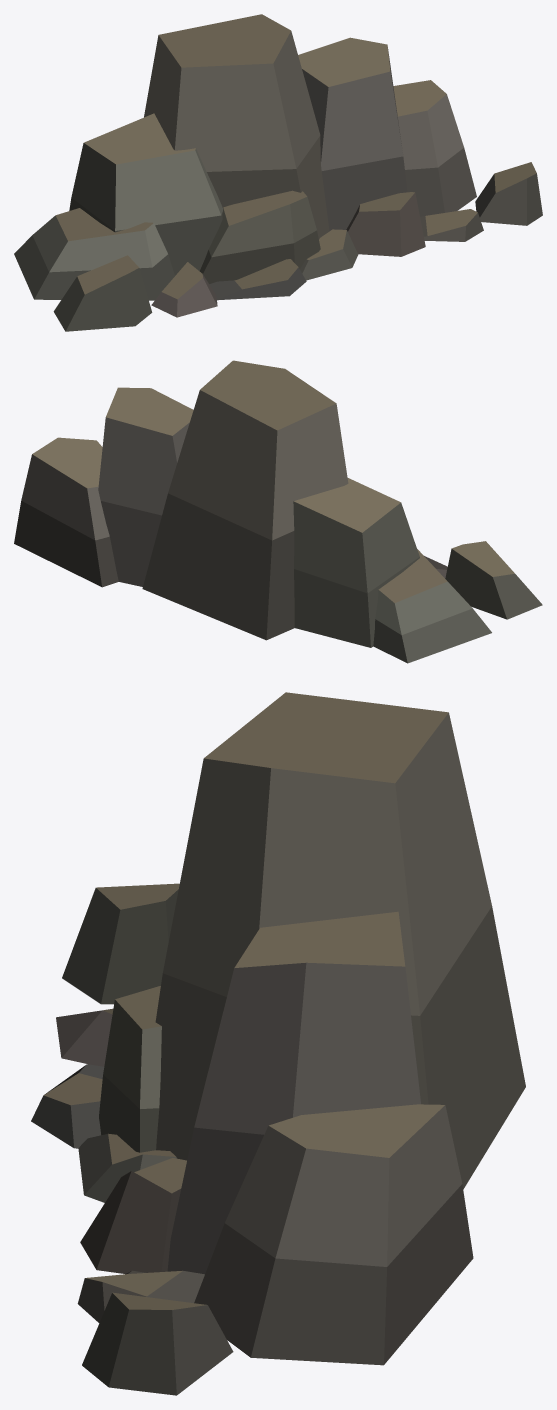
Rendered from basalt-brow-lite.glb.
The picture shows the model from 3 angles, top to bottom: view 1: azimuth 30°, elevation 25°; view 2: azimuth 150°, elevation 25°; view 3: azimuth 270°, elevation 25°; orthographic projection. The views are drawn at different scales.
Visible parts, largest first — view 1: basalt-brow-lite; view 2: basalt-brow-lite; view 3: basalt-brow-lite.
Part boxes in pixels (<box>): basalt-brow-lite: <box>14,14,542,331</box>; basalt-brow-lite: <box>14,360,542,663</box>; basalt-brow-lite: <box>31,692,525,1395</box>.
Bounding box in the file's own units: 24.38 × 9.91 × 10.76.
